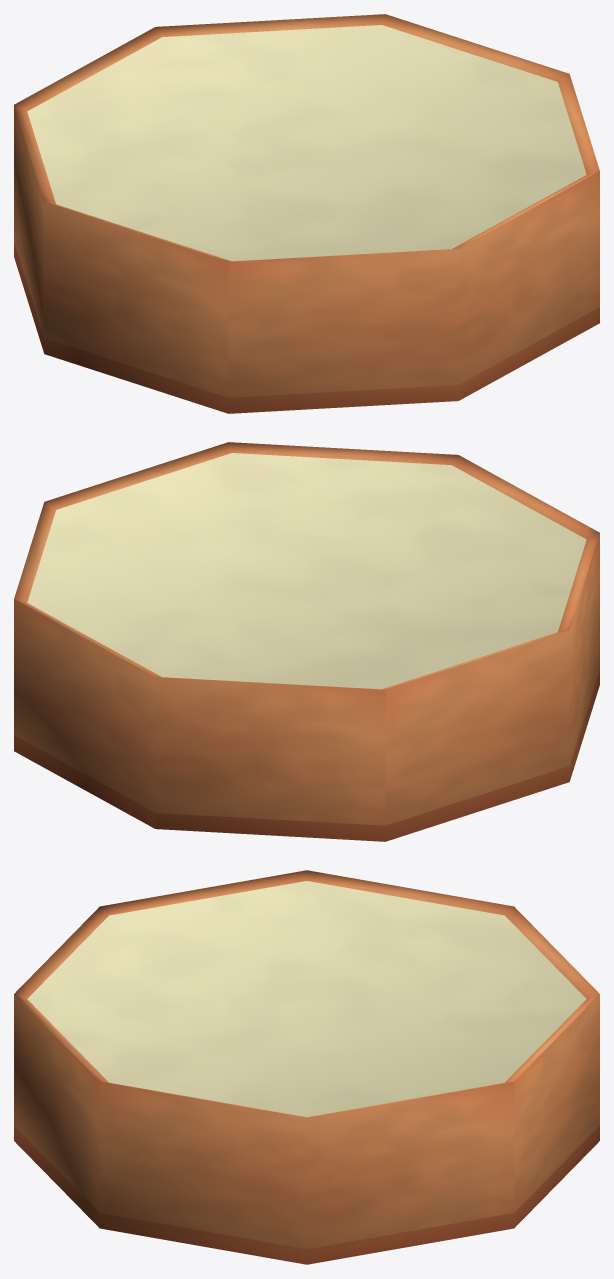
Rendered from Cheesecake_D.FBX.
The picture shows the model from 3 angles, top to bottom: view 1: azimuth 30°, elevation 25°; view 2: azimuth 150°, elevation 25°; view 3: azimuth 270°, elevation 25°; orthographic projection. The views are drawn at different scales.
Parts seen in each view (by area): view 1: Cheesecake001; view 2: Cheesecake001; view 3: Cheesecake001.
Boxes of the visible parts, x1,y1,x2,y2 form: Cheesecake001: (14,14,599,413); Cheesecake001: (14,442,599,841); Cheesecake001: (14,870,599,1264).
Bounding box in the file's own units: 85.22 × 23.58 × 85.22.
